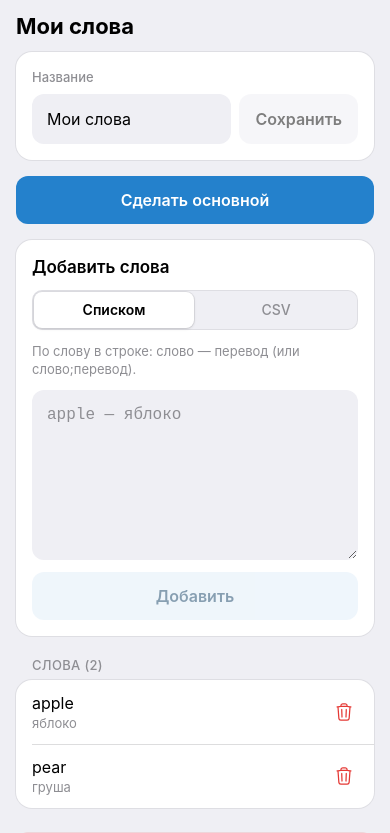
Scenario: DeckEditView › heading and word list › removes a word with an icon-only button that has an accessible name
Expected: the icon in the row of "яблоко" is shown, 334,702 -> 354,722
Click the 1st button with test id "remove-word".
click(344, 712)  # box 322,690 -> 366,734
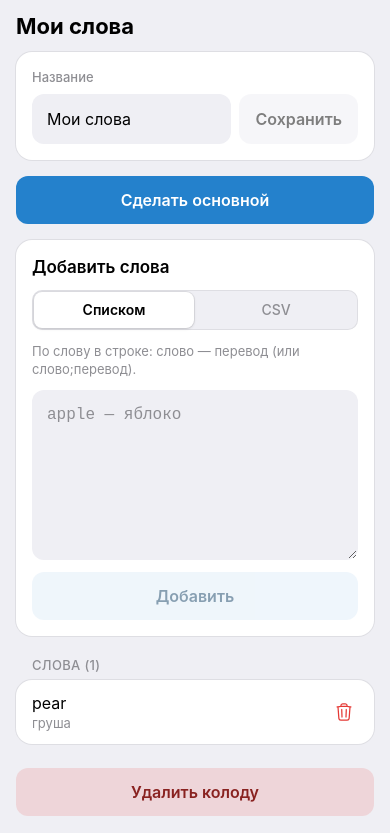
Expected: the element with test id "word-2" is shown, 16,680 -> 374,744
Expected: the heading with class "section-label" reads "Слова (1)", 32,657 -> 100,673
